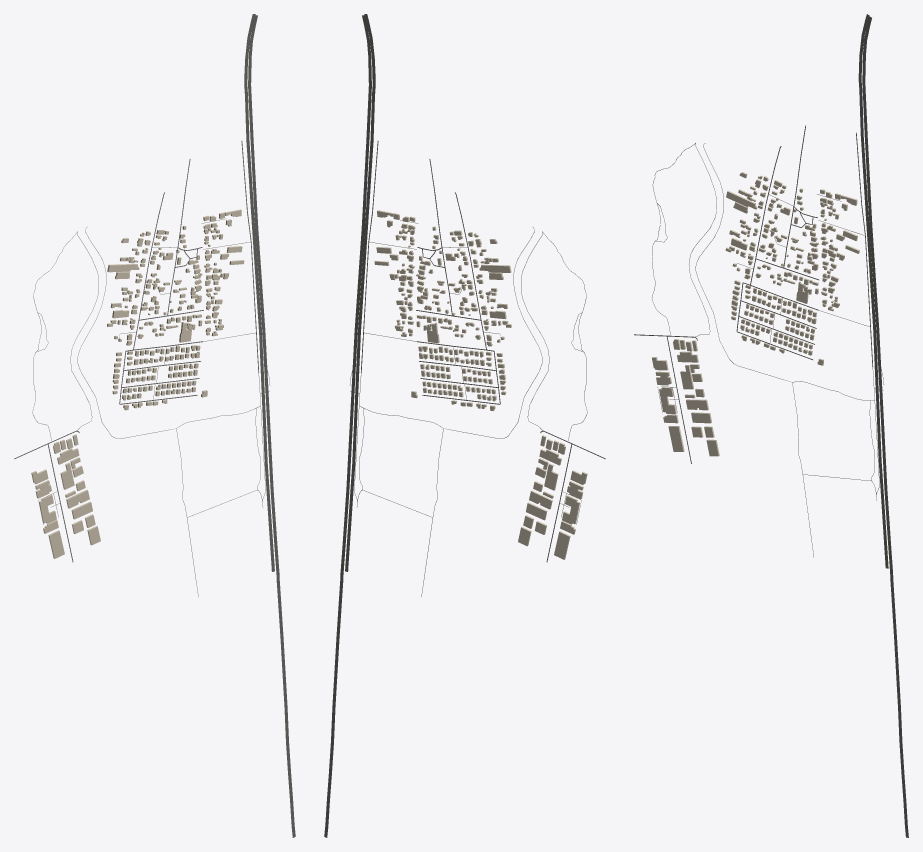
The model's file is historic-palestine-07_31_3492_3252.glb.
3 renders of one model, left to right at view 1: azimuth 30°, elevation 25°; view 2: azimuth 150°, elevation 25°; view 3: azimuth 330°, elevation 25°, orthographic. The views are drawn at different scales.
Visible parts, largest first — view 1: Road כביש חיפה רעננה.001, Road כביש חיפה רעננה; view 2: Road כביש חיפה רעננה.001, Road כביש חיפה רעננה; view 3: Road כביש חיפה רעננה.001, Road כביש חיפה רעננה.
Part boxes in pixels (x1,y1,x2,y2): Road כביש חיפה רעננה.001: (248, 15, 295, 837); Road כביש חיפה רעננה: (244, 14, 274, 571); Road כביש חיפה רעננה.001: (324, 15, 371, 837); Road כביש חיפה רעננה: (345, 14, 375, 571); Road כביש חיפה רעננה.001: (862, 16, 908, 837); Road כביש חיפה רעננה: (858, 14, 888, 568).
Size of the model in its own units: 1103 by 3121 by 8.7.
